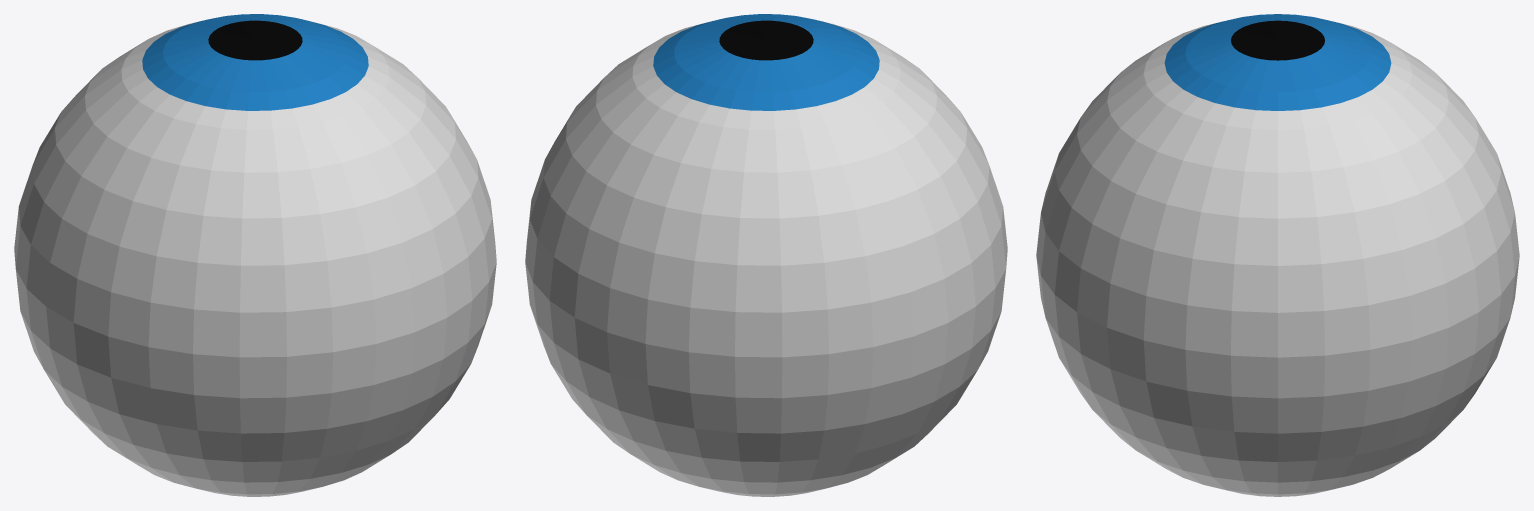
The model's file is eyeball_demon.fbx.
The picture shows the model from 3 angles, left to right: view 1: azimuth 30°, elevation 25°; view 2: azimuth 150°, elevation 25°; view 3: azimuth 270°, elevation 25°; orthographic projection.
Parts seen in each view (by area): view 1: Sphere_0; view 2: Sphere_0; view 3: Sphere_0.
Boxes of the visible parts, box(x1,y1,x2,y2) form: Sphere_0: box(14, 14, 496, 496); Sphere_0: box(525, 14, 1007, 496); Sphere_0: box(1036, 14, 1519, 496).
Size of the model in its own units: 2 by 1.98 by 2.
